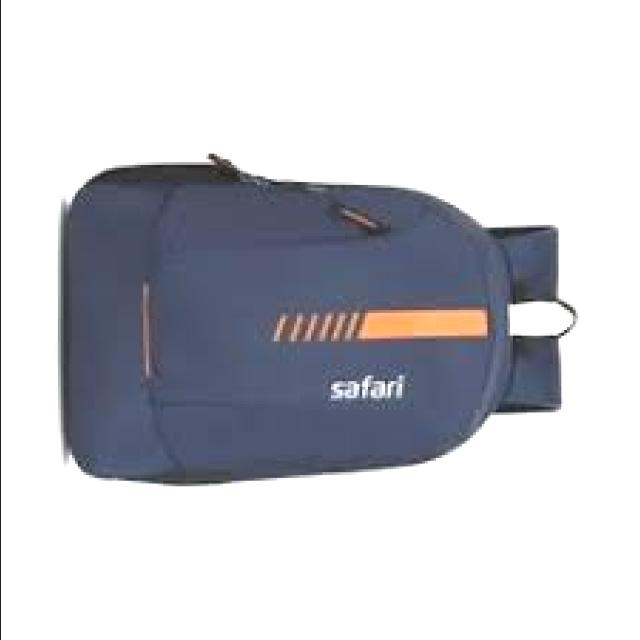backpack: (64, 155, 582, 488)
